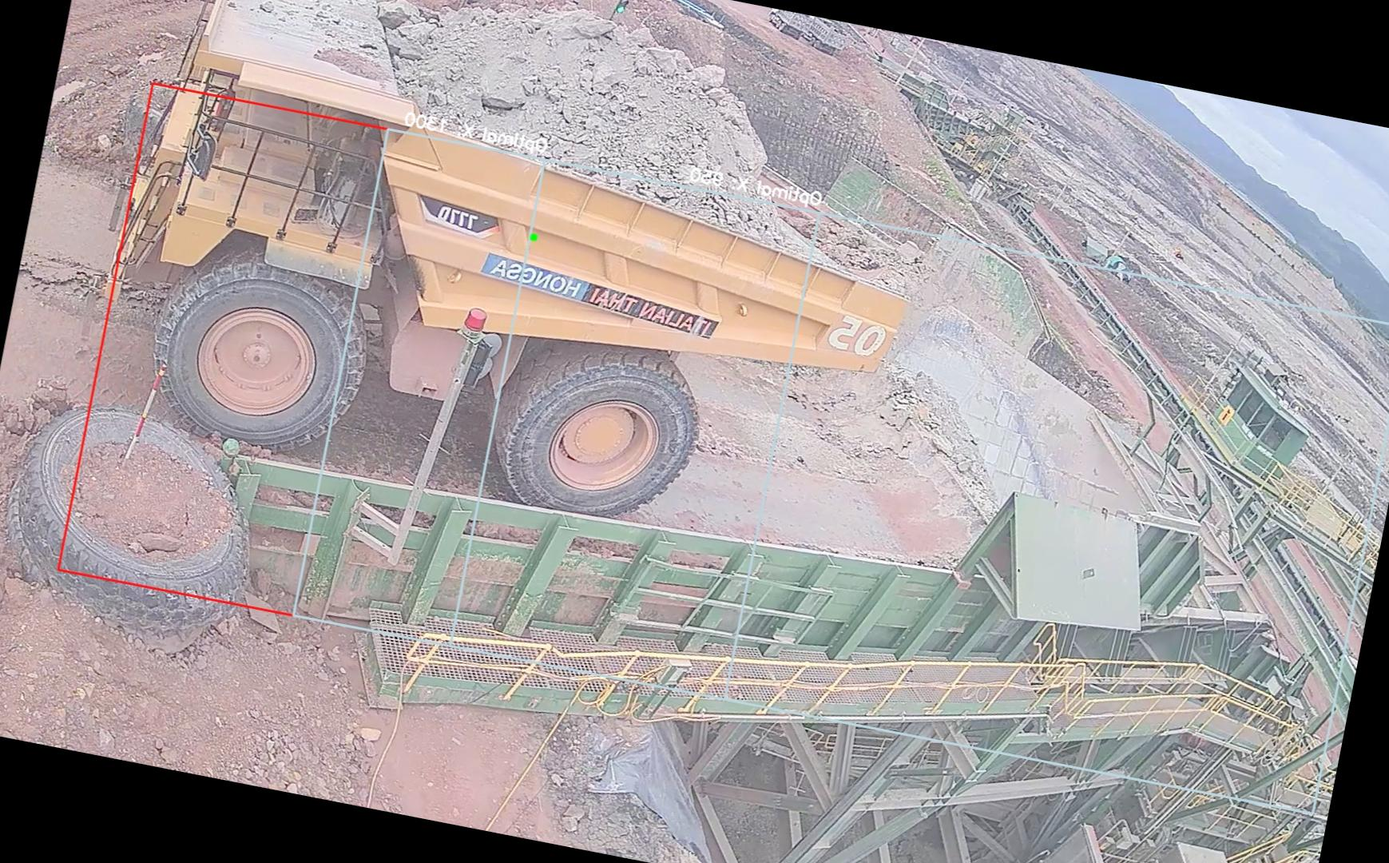company: (466, 245, 730, 344)
full_load: (398, 0, 763, 212)
mining_truck: (59, 0, 958, 559)
tail_number: (814, 298, 896, 374)
truck_size: (410, 187, 509, 241)
